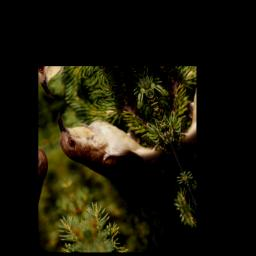Cuckoo: (48, 77, 186, 243)
